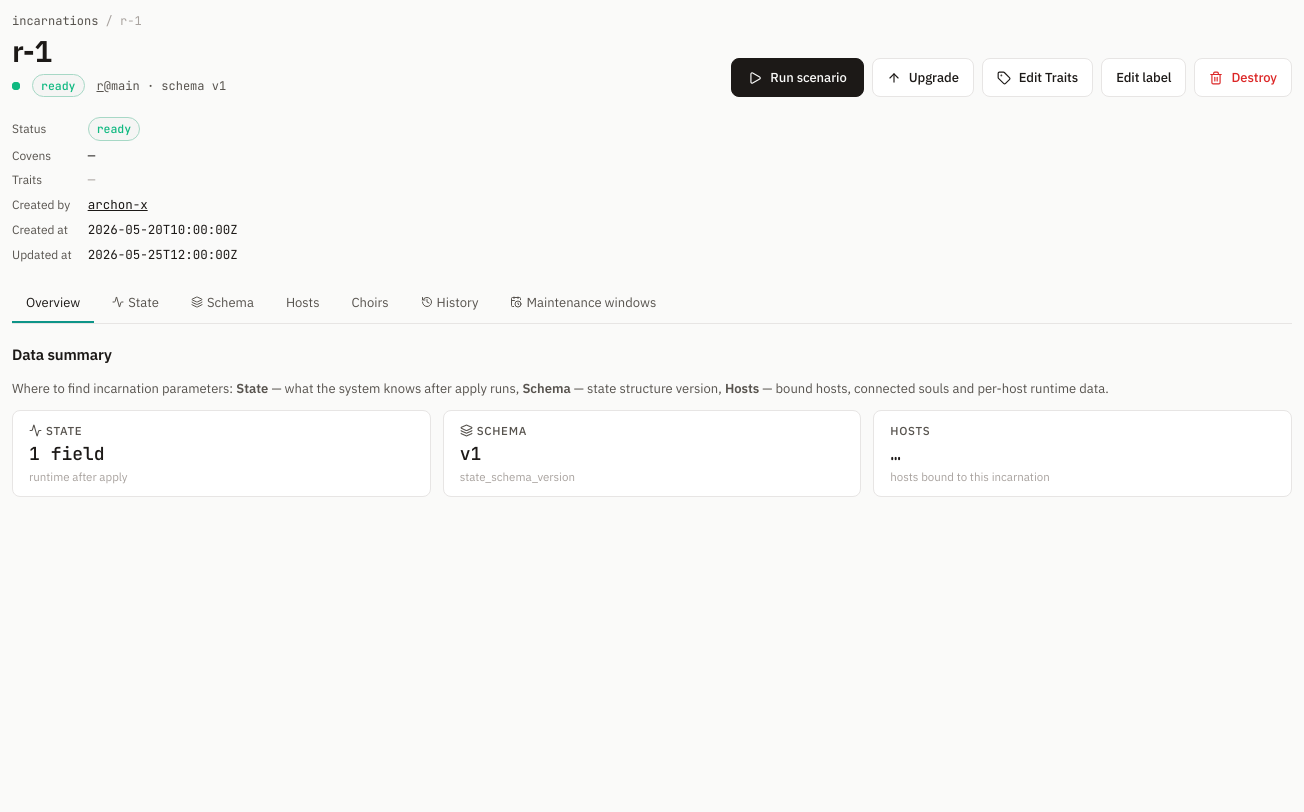
Test: IncarnationDetail › Overview summary card clicks the Hosts tab and shows per-host runtime data
Check: the heading "r-1" is shown, box [12,31,51,70]
Click the button "Hosts … hosts bound to this incarnation".
click(910, 431)  # box [873,410,1292,497]
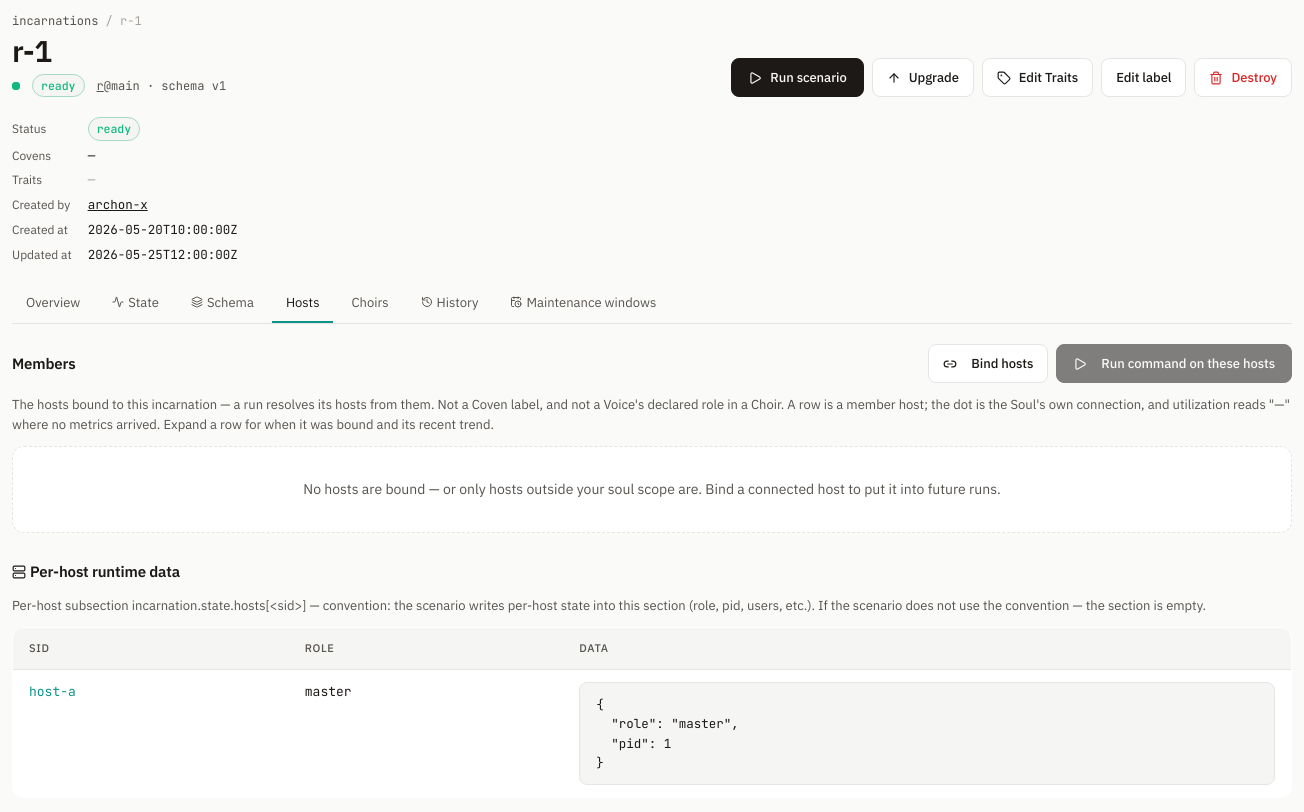
Check: the heading "Per-host runtime data" is shown, box [12,562,180,581]
Check: the link "host-a" is shown, box [29,683,76,700]
